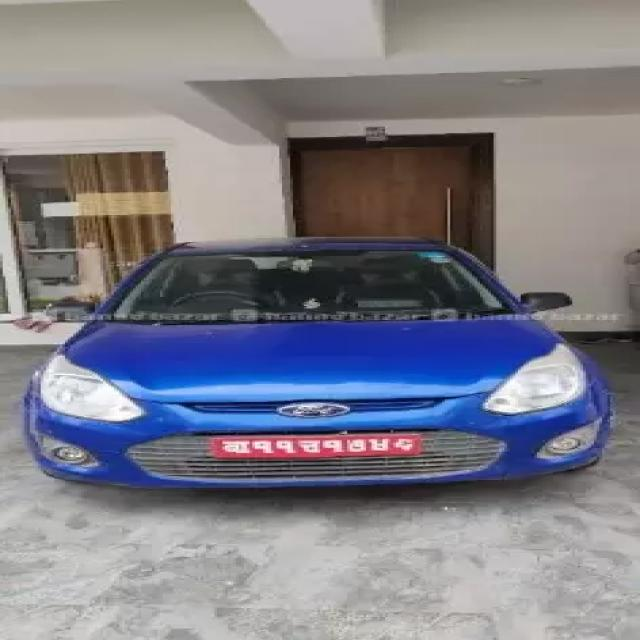License-plate: (205, 433, 430, 458)
